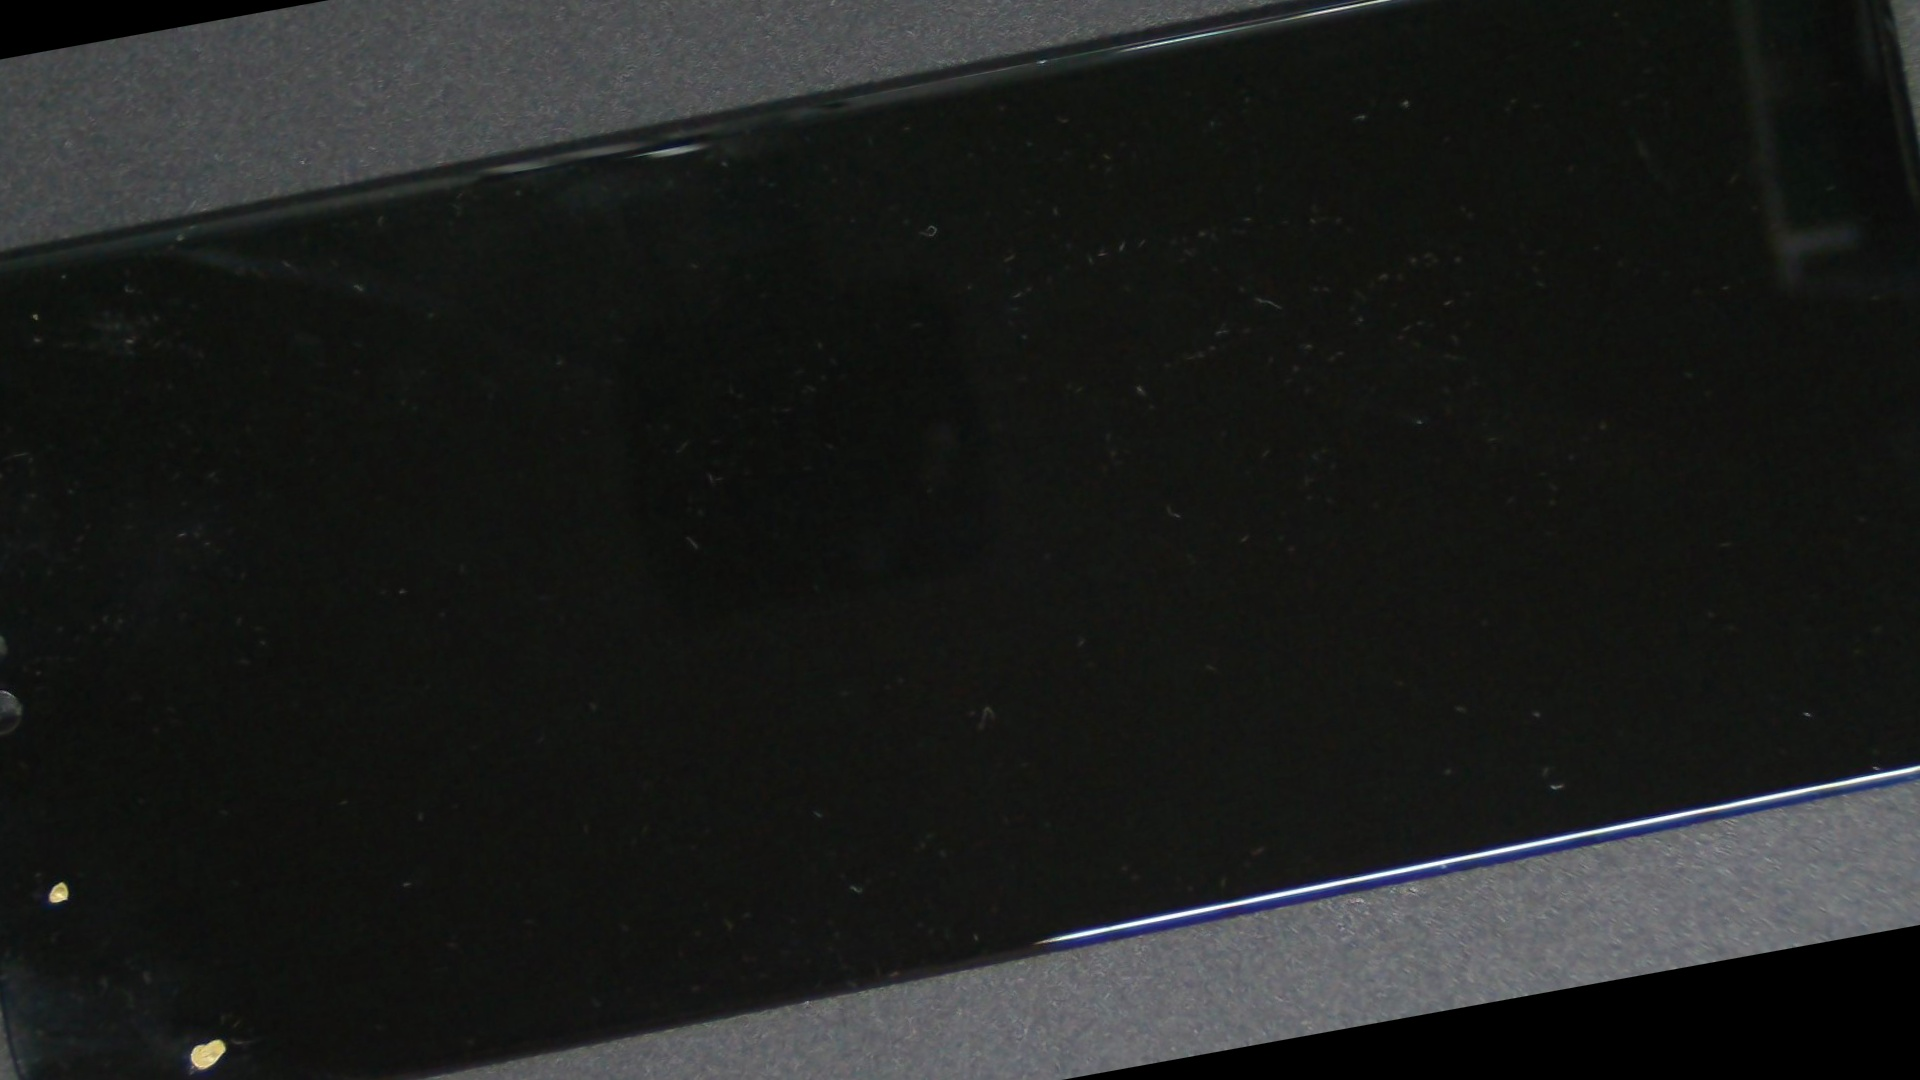oil: (0, 514, 422, 1080), (0, 458, 236, 1080), (0, 239, 99, 637)
